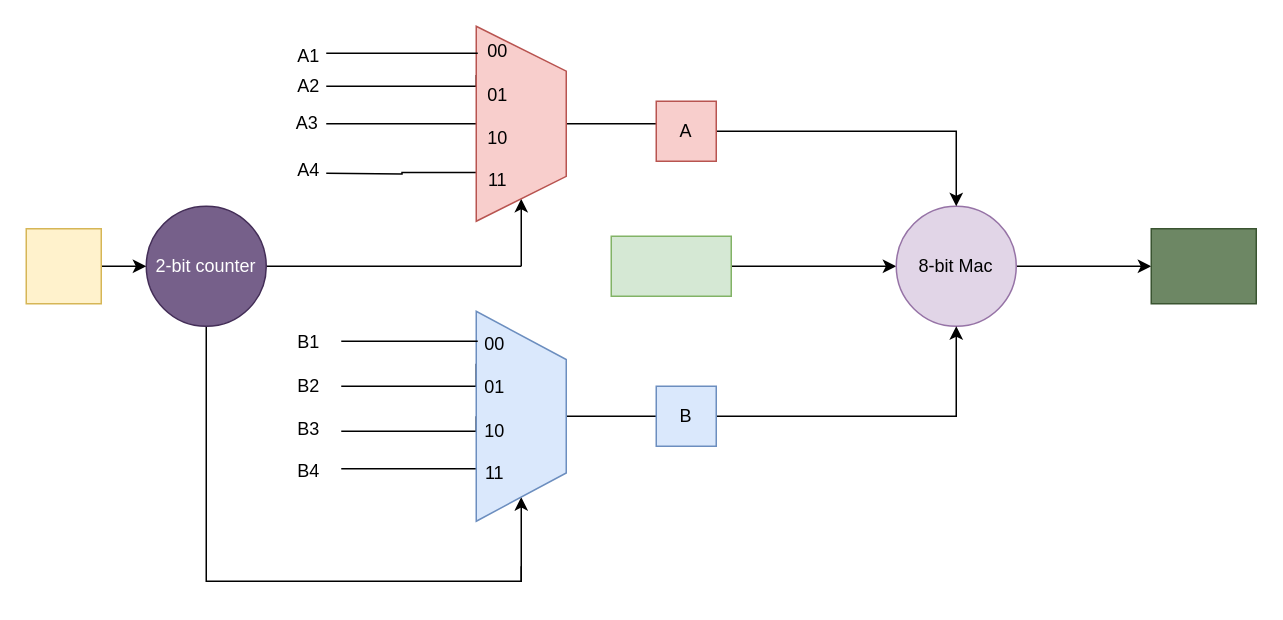
Some shapes in this 1283 by 620 pixel diagram are drawn without their labels. Each missing label, with the centre of its shape:
"32-bit out" goes at pixel 1203 265.
"32-bit SUM" goes at pixel 670 265.
"clk2" goes at pixel 63 265.
